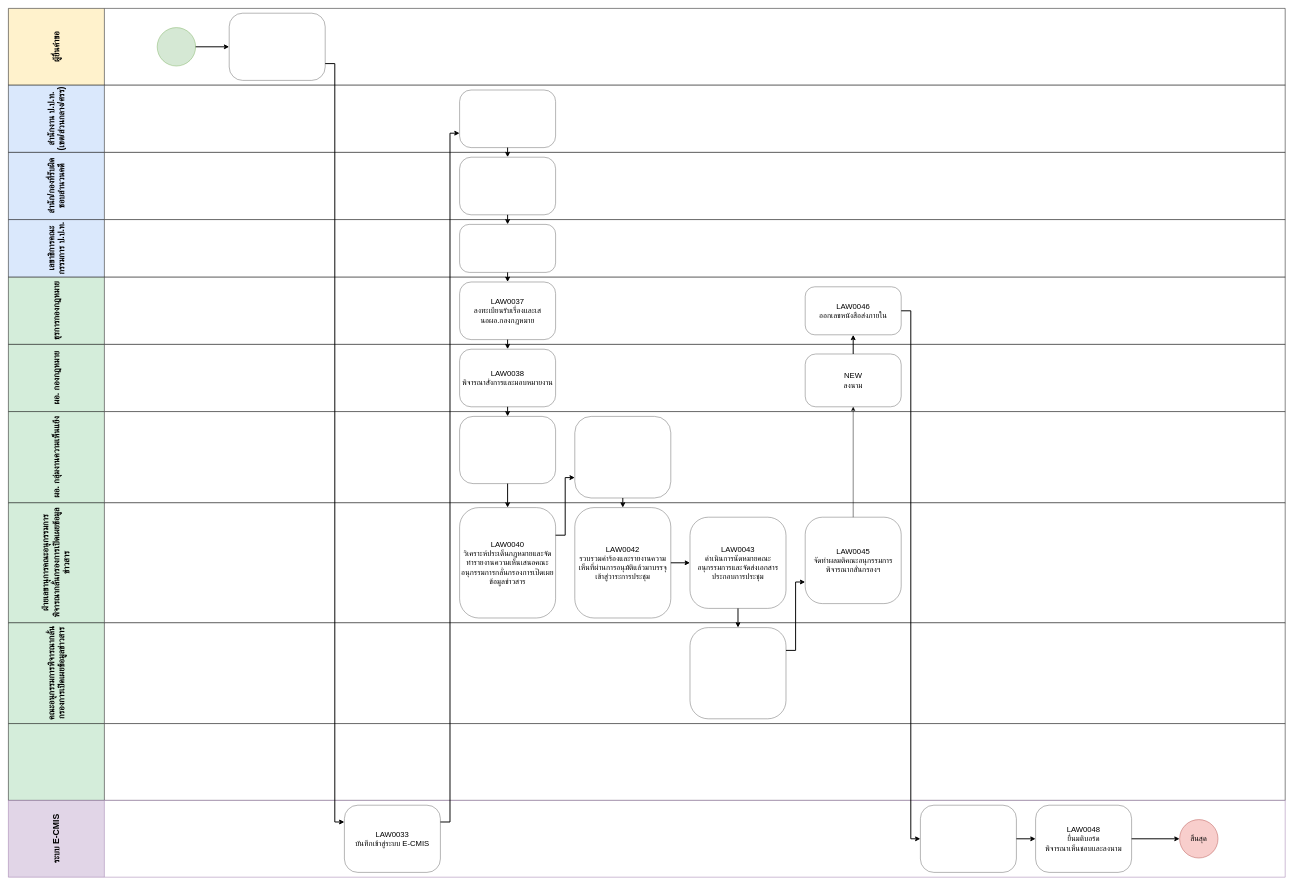
The diagram is 1294 pixels wide and 886 high, and some of its shapes have lost their labels. Each missing label, with the centre of its shape:
"LAW0032 ยื่นคำขอเปิดเผยข้อมูลหรือข้อเท็จจริง" goes at pixel 277 46.
"LAW0034 ตรวจสอบเลขสำนวนคดี" goes at pixel 507 119.
"LAW0035 ทำรายงานความเห็นเบื้องต้นเสนอ" goes at pixel 507 186.
"LAW0036 มอบหมาย" goes at pixel 507 248.
"LAW0039 ตรวจสอบประเด็นกฎหมายและมอบหมายนิติกร" goes at pixel 507 450.
"LAW0041 ตรวจสอบความครบถ้วนของประเด็นทางกฎหมายและความเห็นเบื้องต้น" goes at pixel 622 457.
"LAW0044 พิจารณาเรื่องตามระเบียบวาระและมีมติการประชุม" goes at pixel 738 673.
"LAW0047 พิจารณาให้ความเห็นและลงนาม" goes at pixel 968 838.
"รองเลขาธิการ ป.ป.ท. ที่กำกับดูแลกองกฎหมาย" goes at pixel 646 761.
"เริ่มต้น" goes at pixel 176 46.
